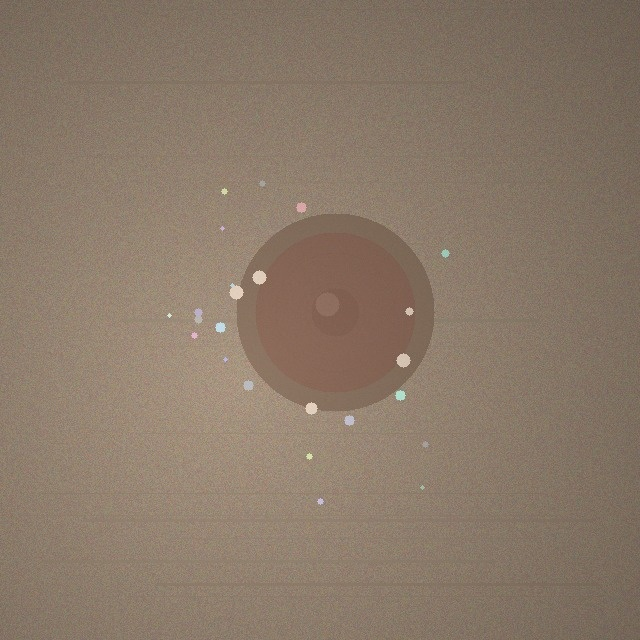overburn: (236, 213, 434, 411)
